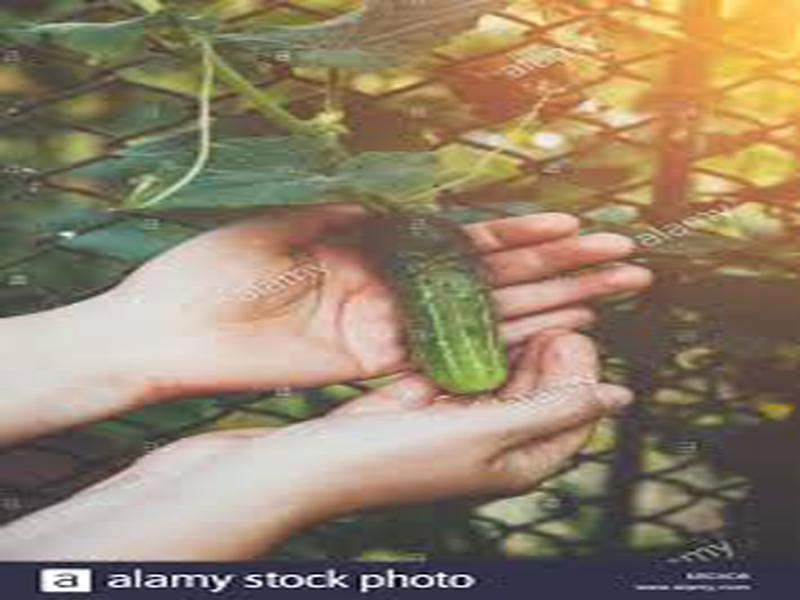Cucumber: (366, 213, 511, 396)
